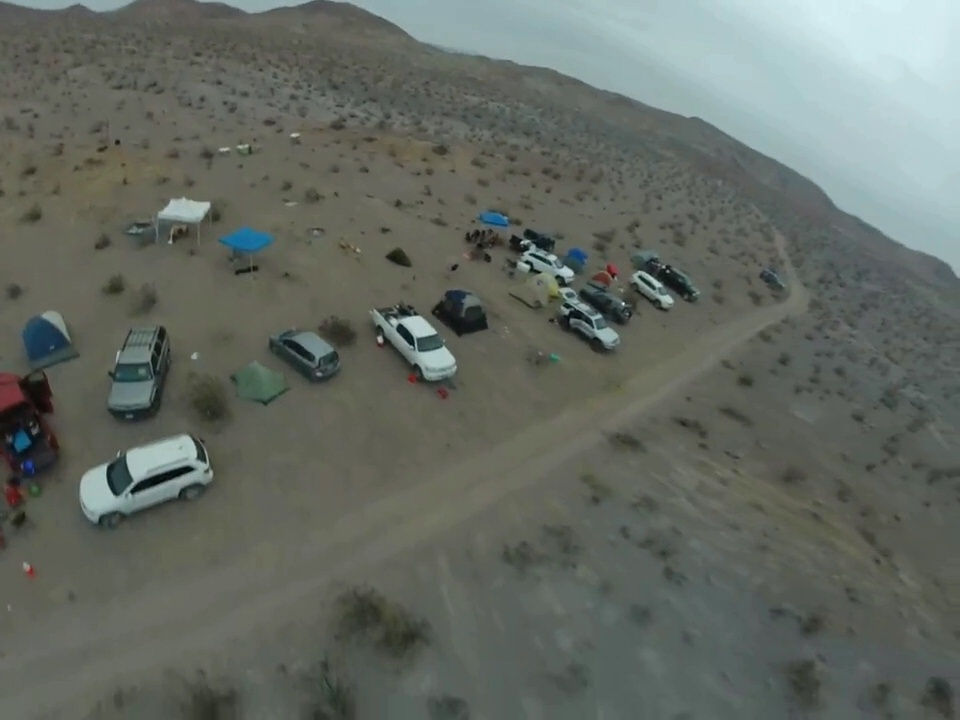araba: (64, 429, 215, 527), (95, 325, 186, 422), (267, 325, 343, 381), (556, 295, 623, 354), (629, 264, 678, 313), (573, 281, 634, 319), (661, 263, 700, 303)
kamyonet: (368, 302, 457, 383), (516, 243, 576, 287)
